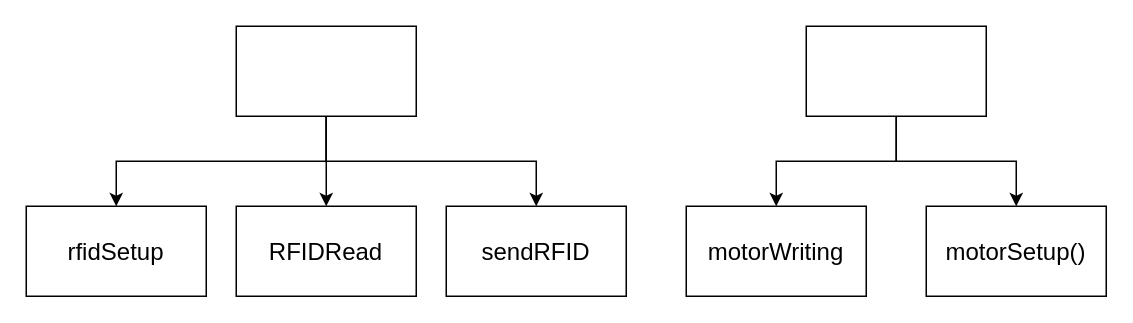
The diagram is 1133 pixels wide and 323 high, and some of its shapes have lost their labels. Each missing label, with the centre of its shape:
"motor.h" goes at pixel 895 70.
"RFID.h" goes at pixel 325 70.
